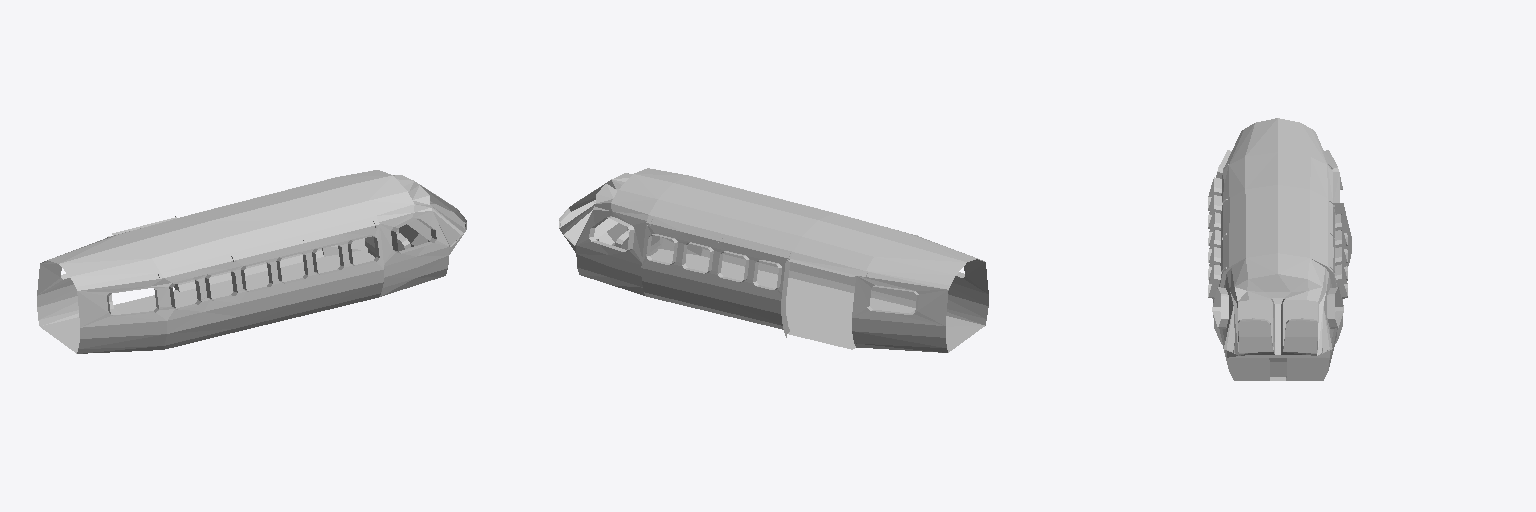
The model's file is Plane_Hitbox.obj.
The picture shows the model from 3 angles: view 1: azimuth 30°, elevation 25°; view 2: azimuth 150°, elevation 25°; view 3: azimuth 270°, elevation 25°; orthographic projection.
Parts seen in each view (by area): view 1: polygon0; view 2: polygon0; view 3: polygon0.
Boxes of the visible parts, <box> form: polygon0: <box>37,170,466,353</box>; polygon0: <box>559,168,988,352</box>; polygon0: <box>1208,118,1351,380</box>.
Size of the model in its own units: 1.42 by 0.3359 by 0.4478.